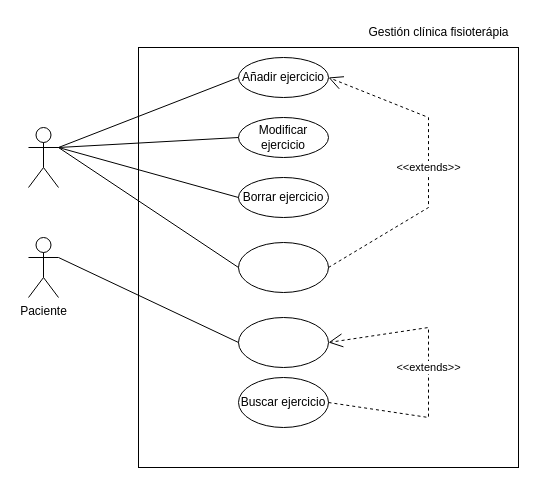
This 536x485 diagram has some shape labels left out. Each missing label, with the centre of its shape:
"Asignar ejercicio a Paciente" goes at (283,267).
"Consultar ejercicio" goes at (283,342).
"Terapeuta" goes at (43,157).
